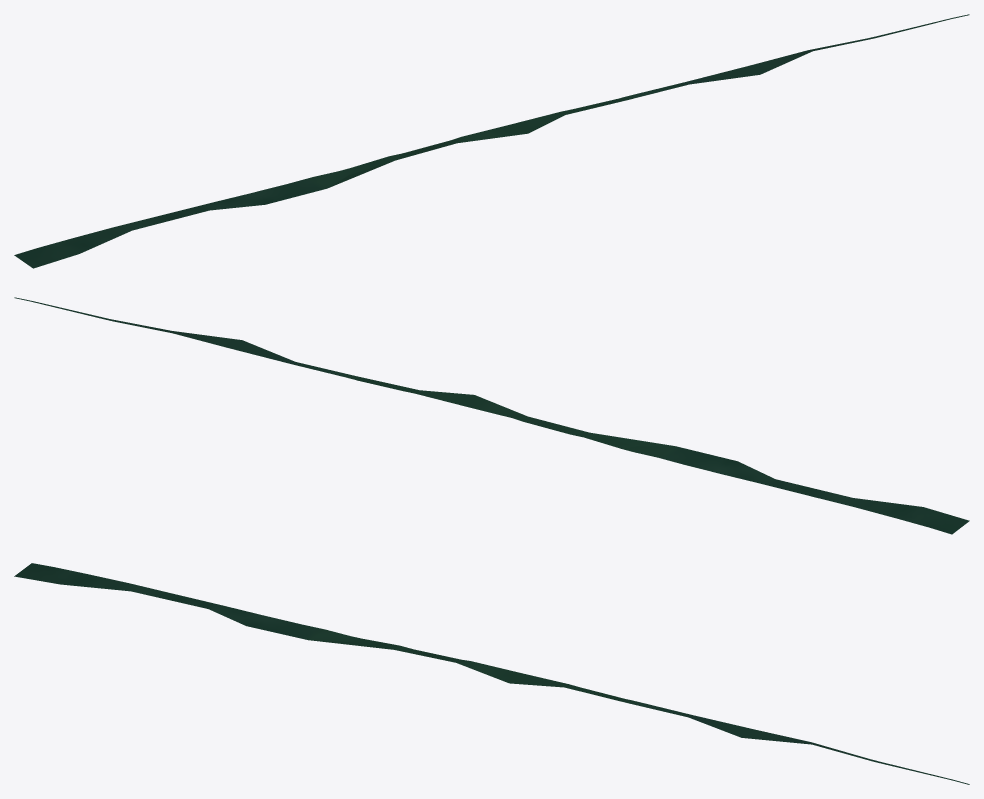
The picture shows the model from 3 angles, top to bottom: view 1: azimuth 30°, elevation 25°; view 2: azimuth 150°, elevation 25°; view 3: azimuth 330°, elevation 25°; orthographic projection.
Size of the model in its own units: 61.17 by 0.6916 by 2.08.
Materials: 1 (1 with a texture image).
